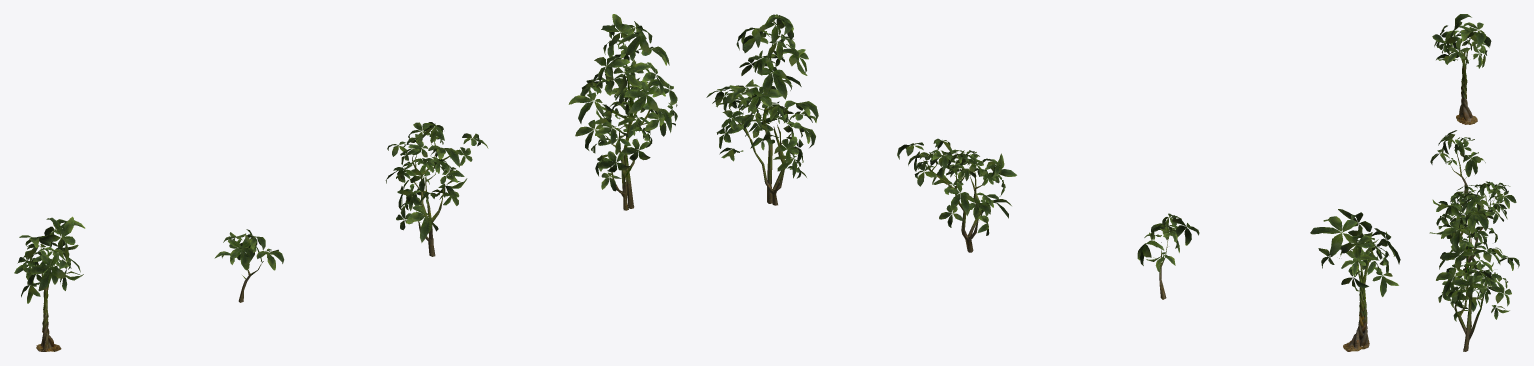
File: pachira_aquatica_01.glb
3 renders of one model, left to right at view 1: azimuth 30°, elevation 25°; view 2: azimuth 150°, elevation 25°; view 3: azimuth 270°, elevation 25°, orthographic. The views are drawn at different scales.
Parts seen in each view (by area): view 1: pachira_aquatica_01_leaves_d, pachira_aquatica_01_leaves_c, pachira_aquatica_01_leaves_a, pachira_aquatica_01_leaves_b, pachira_aquatica_01_bark_d, pachira_aquatica_01_bark_c, pachira_aquatica_01_bark_a; view 2: pachira_aquatica_01_leaves_d, pachira_aquatica_01_leaves_c, pachira_aquatica_01_leaves_a, pachira_aquatica_01_leaves_b, pachira_aquatica_01_bark_d, pachira_aquatica_01_bark_a, pachira_aquatica_01_bark_c; view 3: pachira_aquatica_01_leaves_d, pachira_aquatica_01_leaves_c, pachira_aquatica_01_leaves_a, pachira_aquatica_01_leaves_b, pachira_aquatica_01_bark_d, pachira_aquatica_01_bark_a, pachira_aquatica_01_bark_c, pachira_aquatica_01_bark_b.
Boxes of the visible parts, x1,y1,x2,y2 form: pachira_aquatica_01_leaves_d: [568, 14, 677, 191]; pachira_aquatica_01_leaves_c: [385, 122, 488, 242]; pachira_aquatica_01_leaves_a: [14, 216, 85, 303]; pachira_aquatica_01_leaves_b: [214, 229, 284, 279]; pachira_aquatica_01_bark_d: [595, 44, 650, 210]; pachira_aquatica_01_bark_c: [410, 142, 449, 256]; pachira_aquatica_01_bark_a: [36, 265, 61, 351]; pachira_aquatica_01_leaves_d: [706, 14, 818, 178]; pachira_aquatica_01_leaves_c: [897, 138, 1016, 235]; pachira_aquatica_01_leaves_a: [1310, 209, 1400, 296]; pachira_aquatica_01_leaves_b: [1137, 213, 1199, 274]; pachira_aquatica_01_bark_d: [729, 43, 793, 205]; pachira_aquatica_01_bark_a: [1343, 260, 1369, 351]; pachira_aquatica_01_bark_c: [923, 160, 986, 252]; pachira_aquatica_01_leaves_d: [1429, 190, 1519, 321]; pachira_aquatica_01_leaves_c: [1432, 181, 1516, 244]; pachira_aquatica_01_leaves_a: [1432, 14, 1491, 68]; pachira_aquatica_01_leaves_b: [1430, 130, 1485, 179]; pachira_aquatica_01_bark_d: [1454, 230, 1493, 351]; pachira_aquatica_01_bark_a: [1456, 50, 1477, 124]; pachira_aquatica_01_bark_c: [1454, 194, 1498, 268]; pachira_aquatica_01_bark_b: [1450, 149, 1468, 194].
Size of the model in its own units: 6.86 by 1.9 by 0.9963.
Materials: 2 (2 with a texture image).
